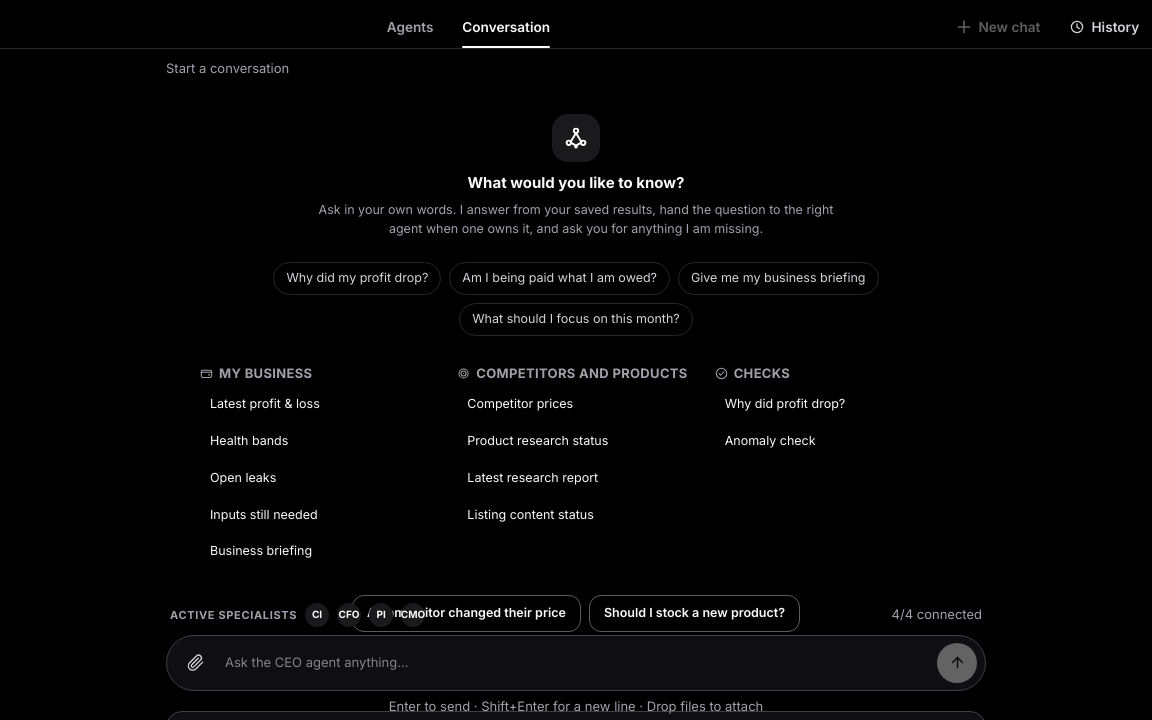
Test case: a reply that was lost after the server accepted the question › says the question was received and does not invite a resend (no second copy, no 'Not sent')
The width and height of the screenshot is (1152, 720).
Click the button with test id "open-drawer". click: x=1104, y=27
box: [1056,8,1151,46]
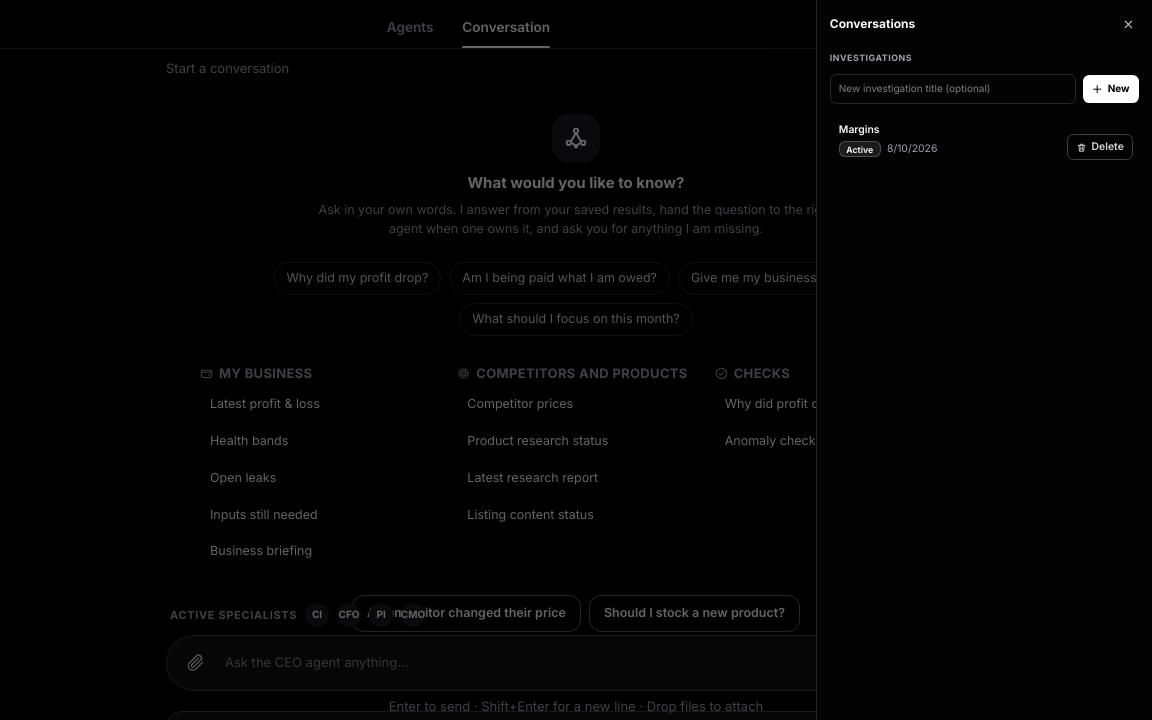
Click the button "Margins Active 8/10/2026". click: x=859, y=130
box: [830,113,1139,166]
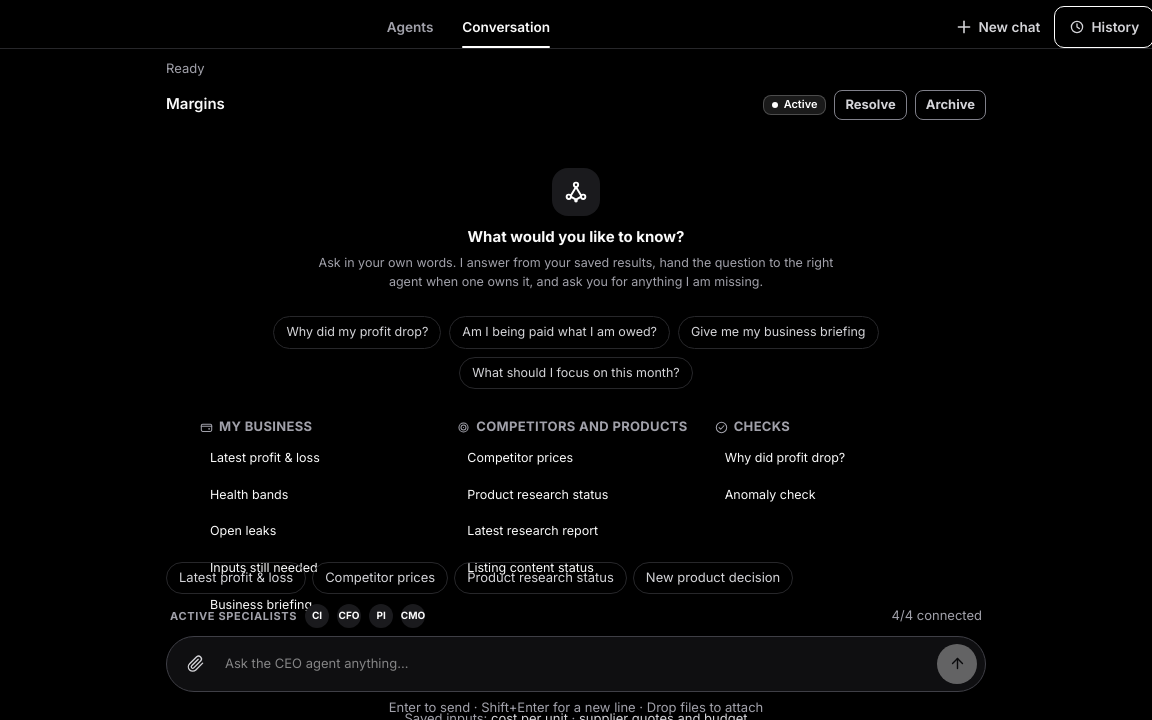
Type "Where am I losing money?" into the text box labelled "Ask the CEO". click: x=576, y=663
box: [221,643,931,683]
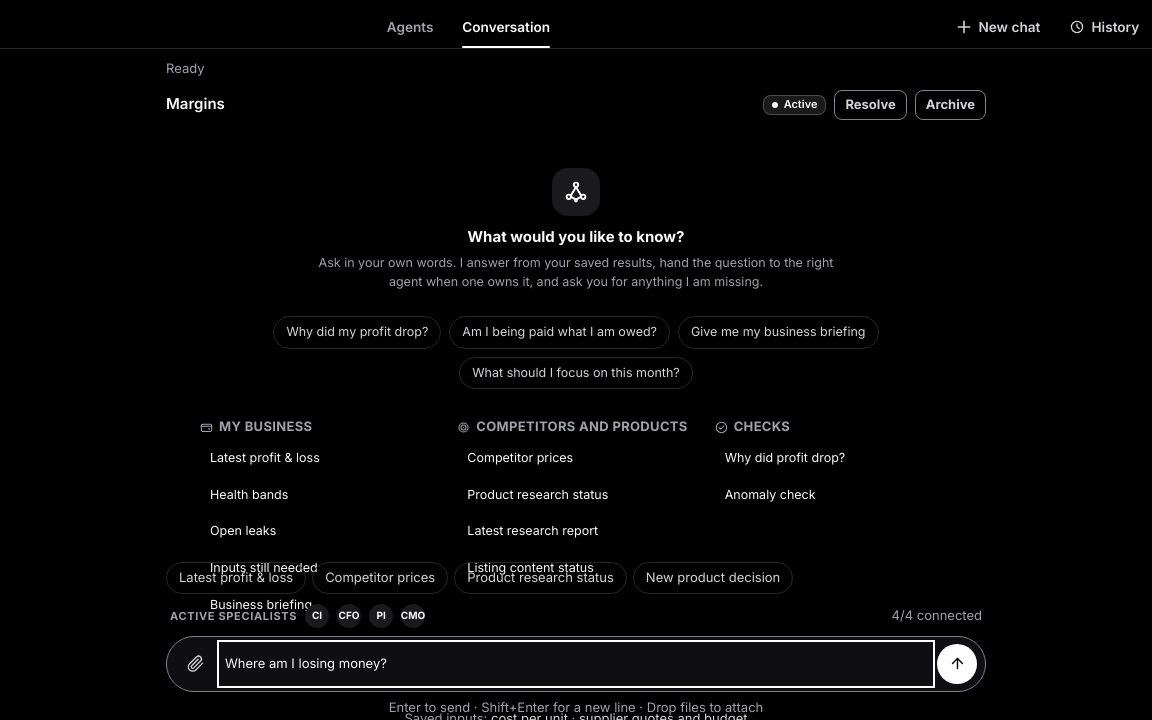
Click the button named "Send". click: x=957, y=663
box: [937,643,977,683]
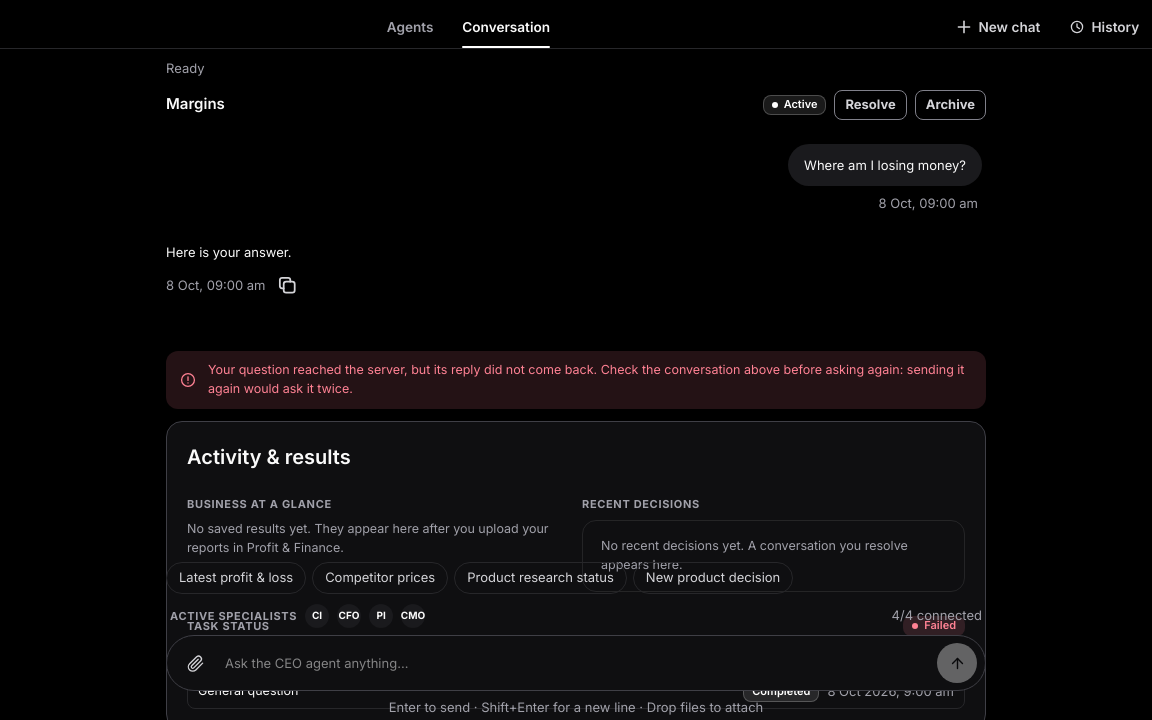
Expected: the text "reached the server, but its reply did not come back" is shown, [208,362,964,396]
Expected: the text "Where am I losing money?" is shown once, [804,154,966,176]
Expected: the text "Here is your answer." is shown, [166,244,292,260]
